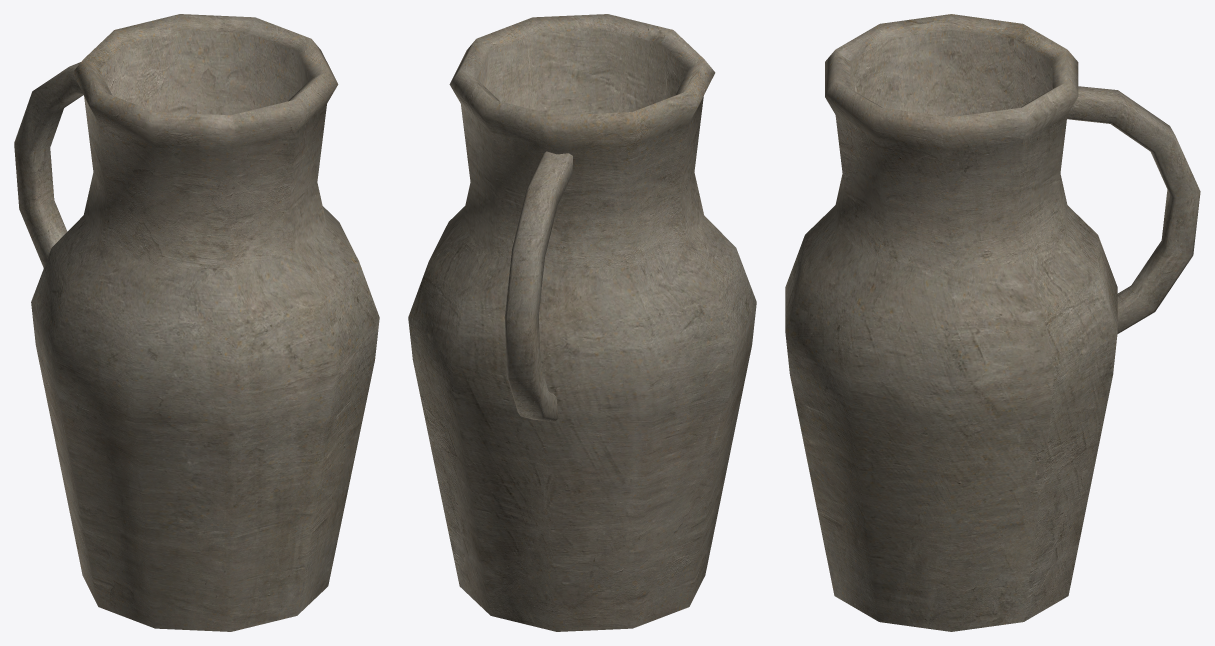
The model's file is Jug_3.FBX.
The picture shows the model from 3 angles, left to right: view 1: azimuth 30°, elevation 25°; view 2: azimuth 150°, elevation 25°; view 3: azimuth 270°, elevation 25°; orthographic projection.
Parts seen in each view (by area): view 1: mesh; view 2: mesh; view 3: mesh.
Boxes of the visible parts, <box> form: mesh: <box>14,14,379,631</box>; mesh: <box>408,14,756,631</box>; mesh: <box>785,14,1200,631</box>.
Size of the model in its own units: 23.16 by 27.52 by 37.62.
